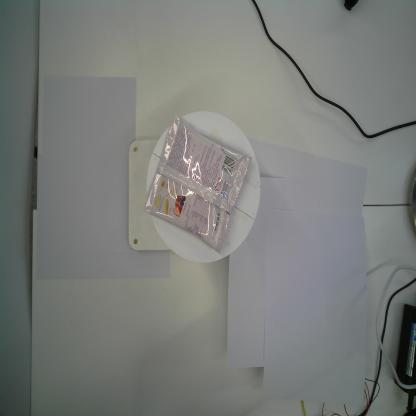Instant Drink: (143, 113, 252, 255)
